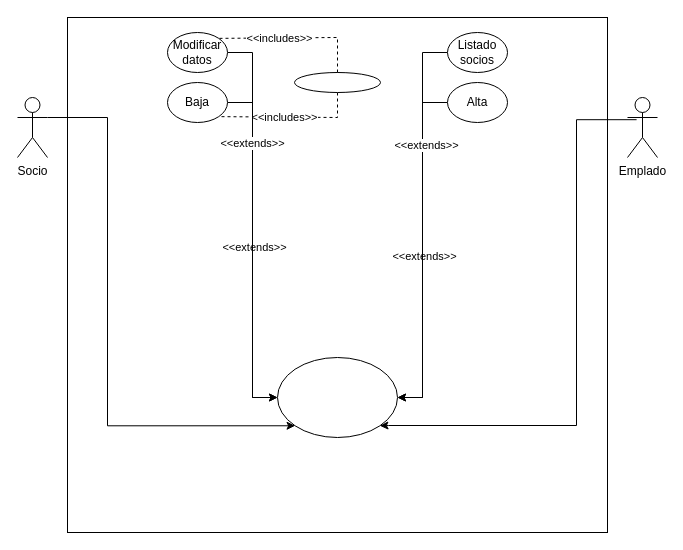
Image size: 683x550. Some labels were removed from this diagram. Each missing label, with the centre of its shape:
"Identificarse" belongs at point (337, 82).
"Operaciones de registro" belongs at point (337, 397).
